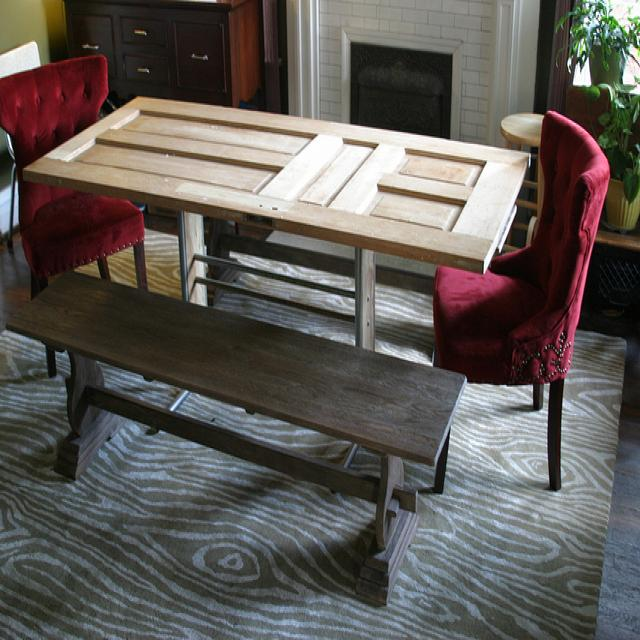chair: (436, 111, 610, 490), (1, 56, 148, 374)
dining table: (24, 99, 532, 354)
